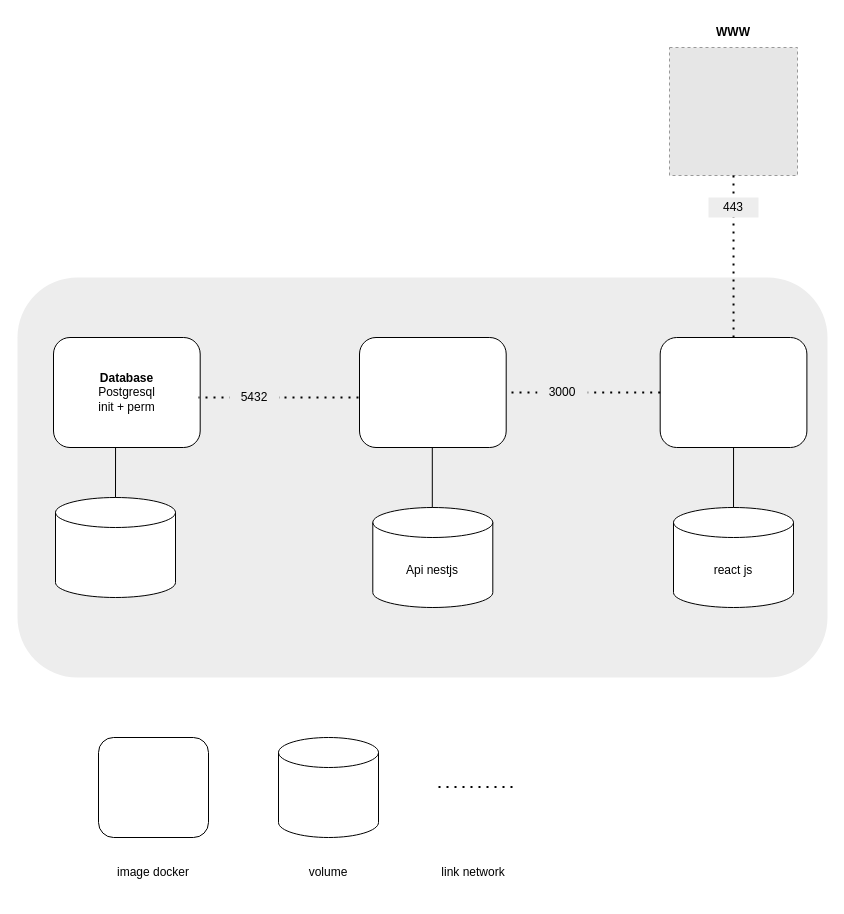
This 844x914 diagram has some shape labels left out. Grey dashed boxes stand in for pictures. The shapes that lost their labels are listed below. From the top down, each one's box as (x1, y1, x2, y2) in pixels, then its label:
(358, 336, 506, 448): back nodejs - build & lunch api
(659, 336, 807, 448): front nginx - build front - ssl key - page access
(54, 496, 176, 598): db Postgresql
